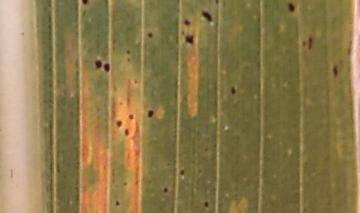tarspot: (198, 7, 216, 26), (91, 54, 103, 74), (329, 62, 341, 80), (284, 1, 299, 15), (181, 33, 198, 45), (305, 33, 315, 53), (103, 60, 115, 75), (144, 106, 156, 120), (227, 83, 239, 97), (180, 16, 194, 27), (160, 183, 171, 197), (201, 199, 213, 211), (77, 1, 95, 9), (126, 111, 139, 122), (144, 29, 156, 40), (112, 198, 123, 209), (177, 166, 187, 178), (114, 118, 124, 129), (123, 47, 133, 56), (121, 129, 131, 137), (125, 55, 133, 64)
